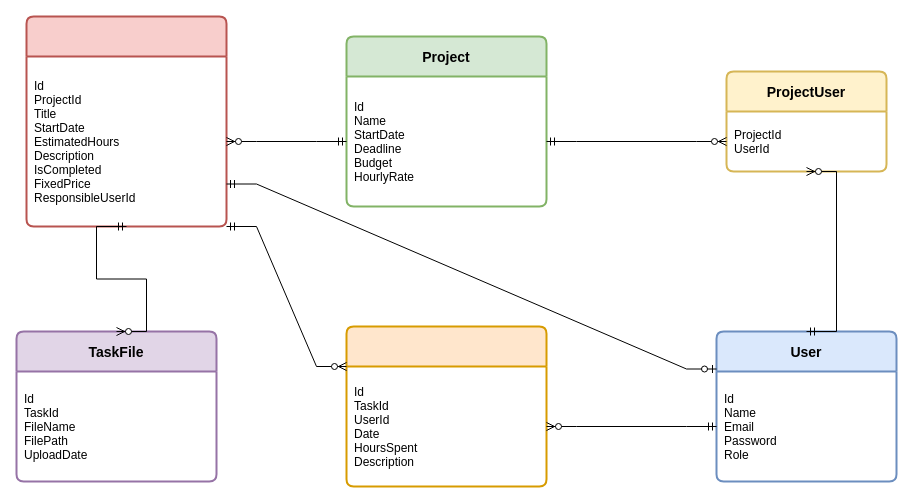
The diagram is 913 pixels wide and 503 high, and some of its shapes have lost their labels. Here are the shapes that lost their labels. From the top down, the box of each, then its label:
(25, 15, 227, 227): Task
(345, 325, 547, 487): WorkLog
